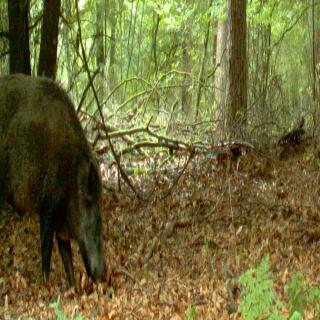Pig: (0, 19, 112, 320)
